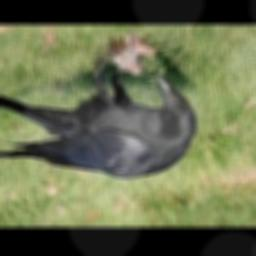Crow: (0, 57, 195, 179)
